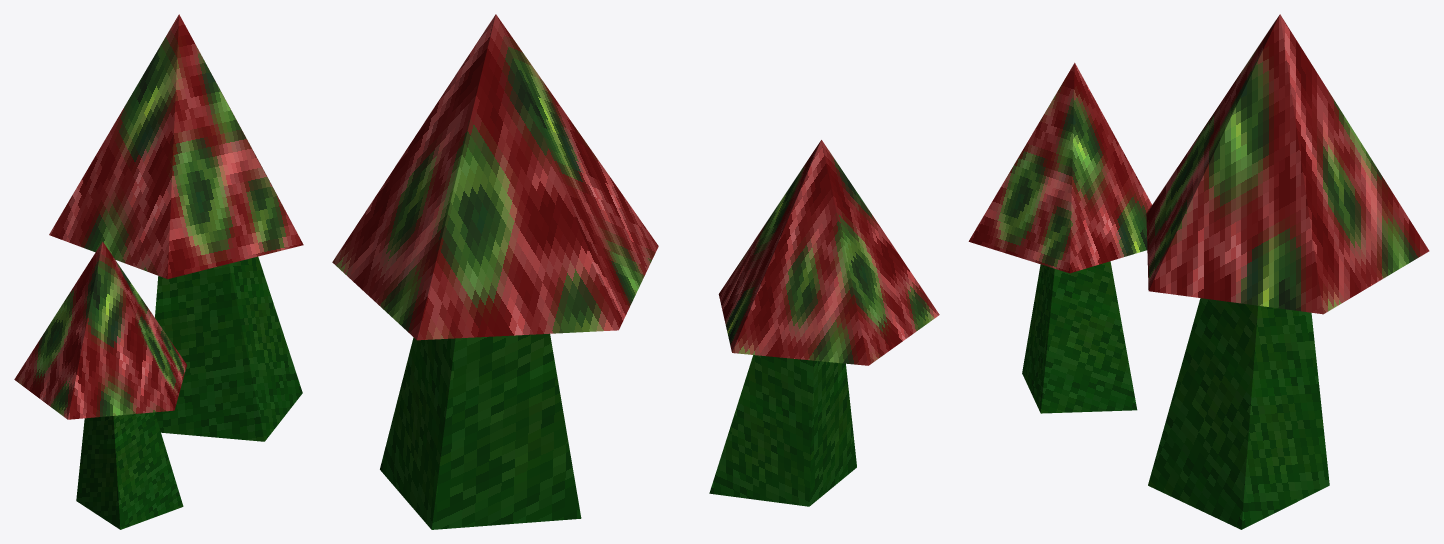
The model's file is mushrooms1.obj.
3 views of the same model, side by side, from view 1: azimuth 30°, elevation 25°; view 2: azimuth 150°, elevation 25°; view 3: azimuth 270°, elevation 25° (orthographic). The views are drawn at different scales.
Parts seen in each view (by area): view 1: mushrooms1; view 2: mushrooms1; view 3: mushrooms1.
Part boxes in pixels (<box>): mushrooms1: <box>14,14,303,529</box>; mushrooms1: <box>332,14,939,529</box>; mushrooms1: <box>968,14,1429,529</box>.
Size of the model in its own units: 0.0337 by 0.0376 by 0.0345.
Materials: 2 (2 with a texture image).
